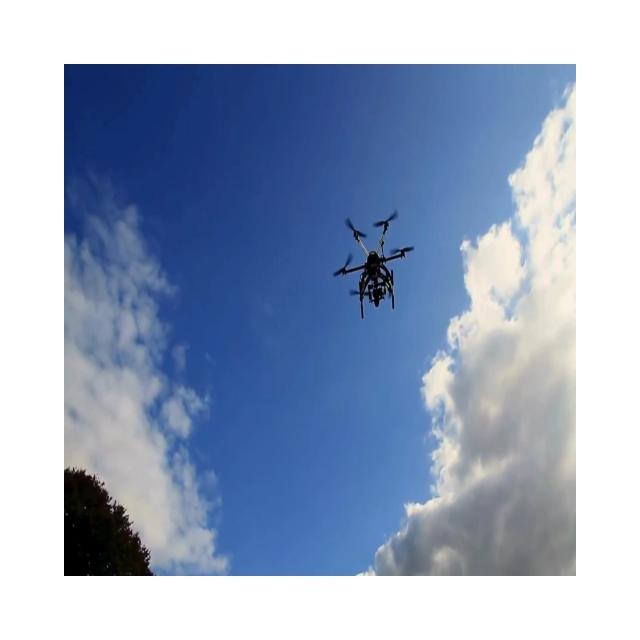drone: (332, 208, 414, 320)
